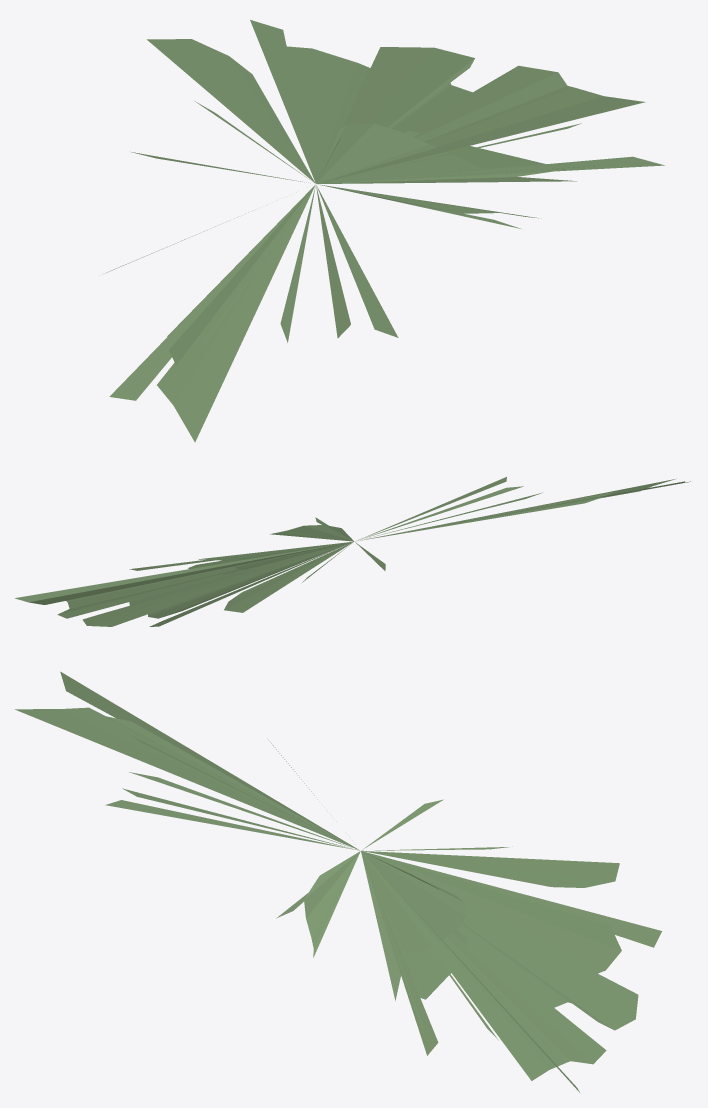
Rendered from c_1668_17814_parks.glb.
3 views of the same model, one above another, from view 1: azimuth 30°, elevation 25°; view 2: azimuth 150°, elevation 25°; view 3: azimuth 270°, elevation 25° (orthographic). The views are drawn at different scales.
Visible parts, largest first — view 1: geometry_0; view 2: geometry_0; view 3: geometry_0.
Part boxes in pixels (bbox=[...]): geometry_0: bbox=[102, 20, 664, 442]; geometry_0: bbox=[15, 477, 690, 626]; geometry_0: bbox=[15, 671, 661, 1092].
Size of the model in its own units: 497 by 93.64 by 467.
